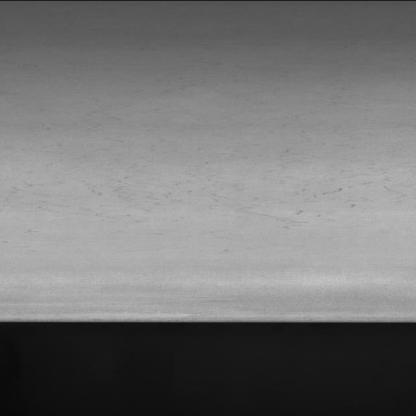silk_spot: (16, 142, 356, 236)
